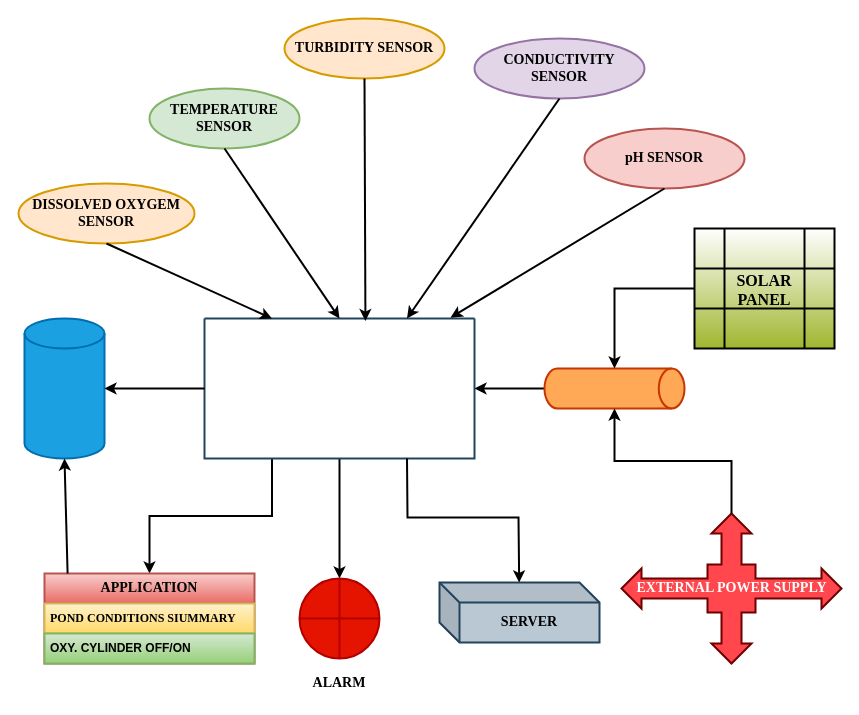
The diagram is 859 pixels wide and 715 high, and some of its shapes have lost their labels. The centre of each missing label's shape, as x and y in pixels:
"BATTERIES" goes at point 614,388.
"OXYGEN CYLINDER" goes at point 64,388.
"Rasberry Pi" goes at point 339,388.
